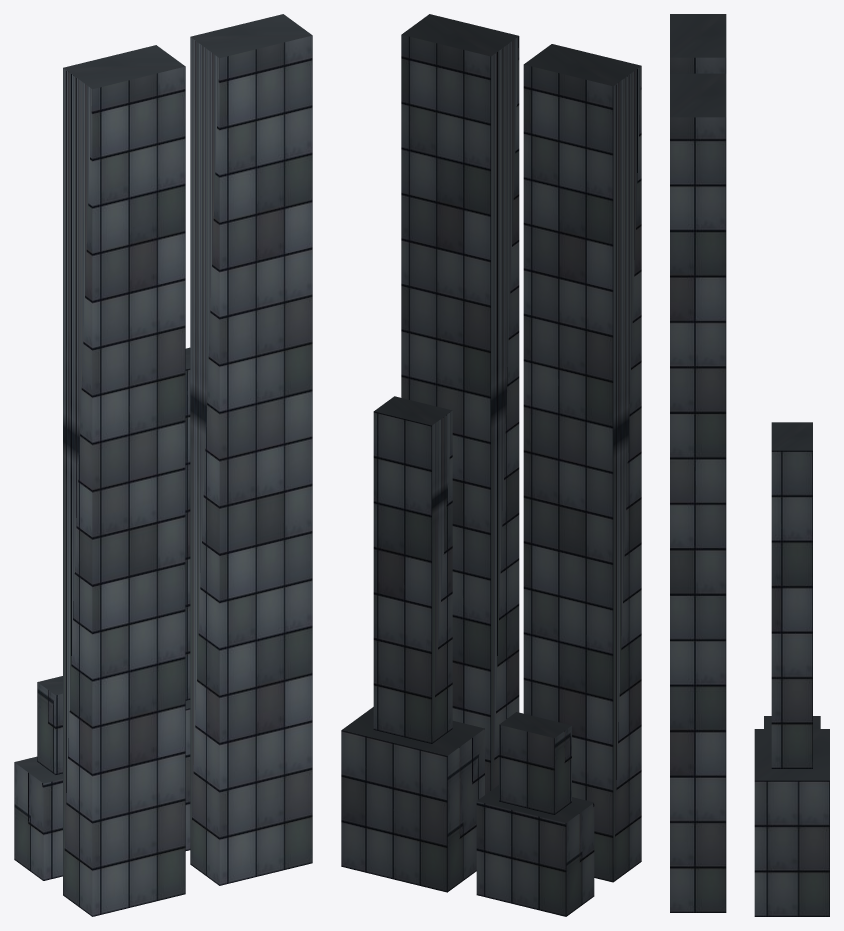
File: city_block_12345_6_32.glb
3 renders of one model, left to right at view 1: azimuth 30°, elevation 25°; view 2: azimuth 150°, elevation 25°; view 3: azimuth 270°, elevation 25°, orthographic. The views are drawn at different scales.
Parts seen in each view (by area): view 1: block_32; view 2: block_32; view 3: block_32.
Part boxes in pixels (<box>): block_32: <box>14,14,312,916</box>; block_32: <box>341,14,641,916</box>; block_32: <box>670,14,829,916</box>.
Bounding box in the file's own units: 4.05 × 14 × 2.55.
4 materials, 4 textured.
